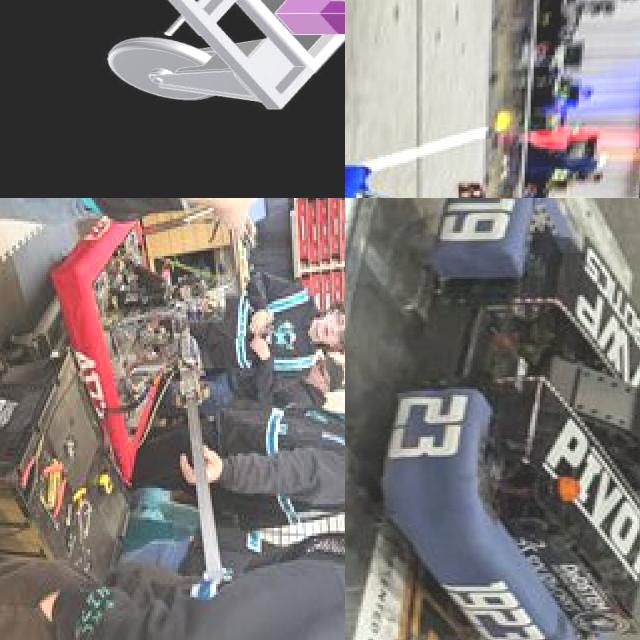FRC-Robots: (370, 198, 640, 640), (77, 204, 221, 492), (345, 131, 640, 198)
